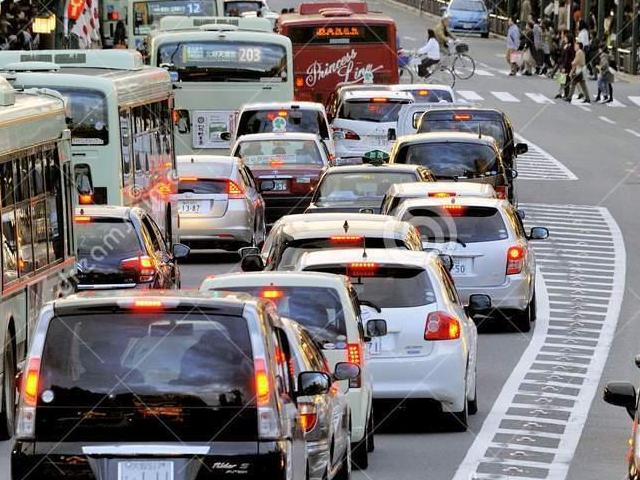bus: (0, 34, 184, 230), (0, 73, 94, 436), (141, 7, 303, 169), (262, 0, 424, 123), (131, 0, 237, 34)
car: (7, 280, 326, 480), (202, 263, 380, 480), (299, 243, 495, 425), (237, 298, 357, 480), (393, 196, 559, 318), (234, 210, 426, 292), (53, 192, 194, 300), (301, 164, 449, 253), (392, 129, 528, 215), (160, 146, 272, 250), (211, 124, 344, 205), (325, 81, 436, 169), (218, 94, 345, 164), (410, 106, 522, 170), (375, 179, 504, 224), (431, 0, 502, 37)
